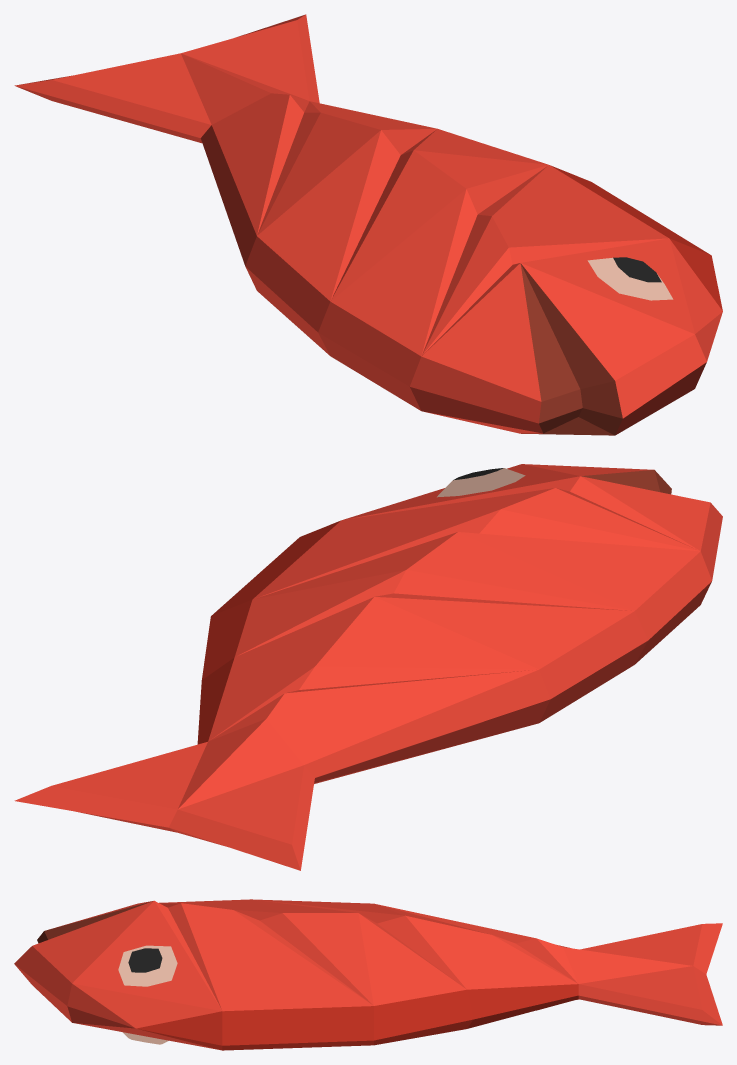
Rendered from Fish_01_Raw.fbx.
The picture shows the model from 3 angles, top to bottom: view 1: azimuth 30°, elevation 25°; view 2: azimuth 150°, elevation 25°; view 3: azimuth 270°, elevation 25°; orthographic projection. The views are drawn at different scales.
Parts seen in each view (by area): view 1: Fish_01_Raw; view 2: Fish_01_Raw; view 3: Fish_01_Raw.
Boxes of the visible parts, x1,y1,x2,y2 form: Fish_01_Raw: (14,14,722,435); Fish_01_Raw: (14,464,722,870); Fish_01_Raw: (14,899,722,1050).
Size of the model in its own units: 37.84 by 16.52 by 86.42.
